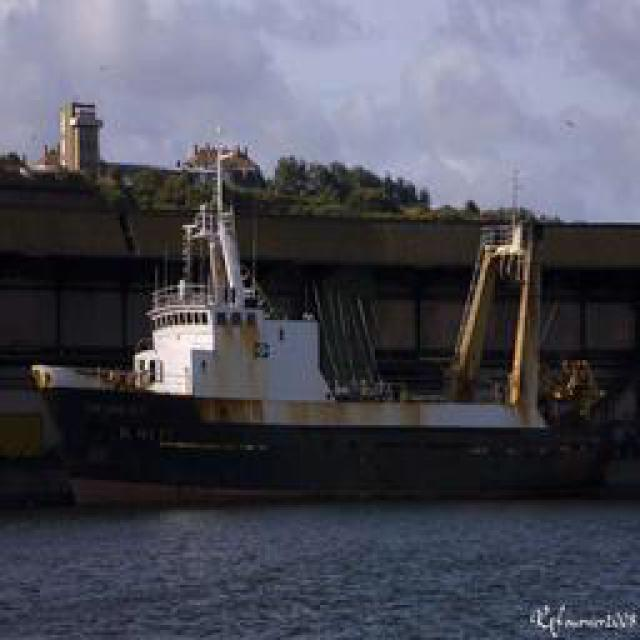Ship: (17, 168, 620, 496)
